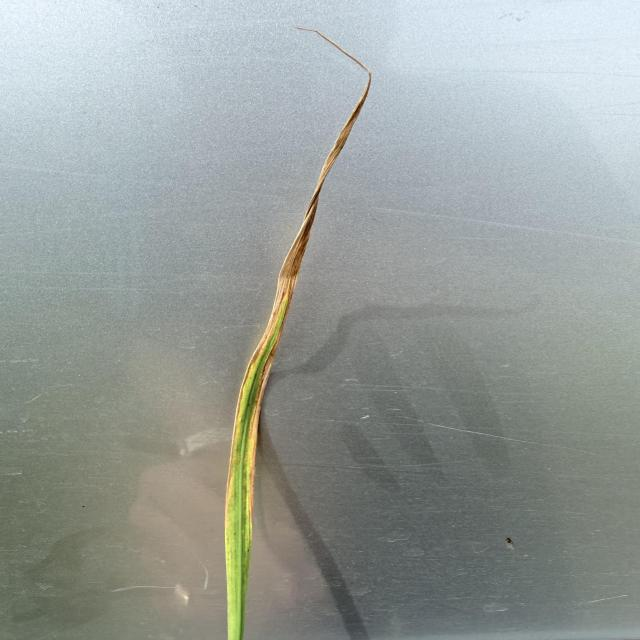Chay bia la: (227, 23, 377, 532)
